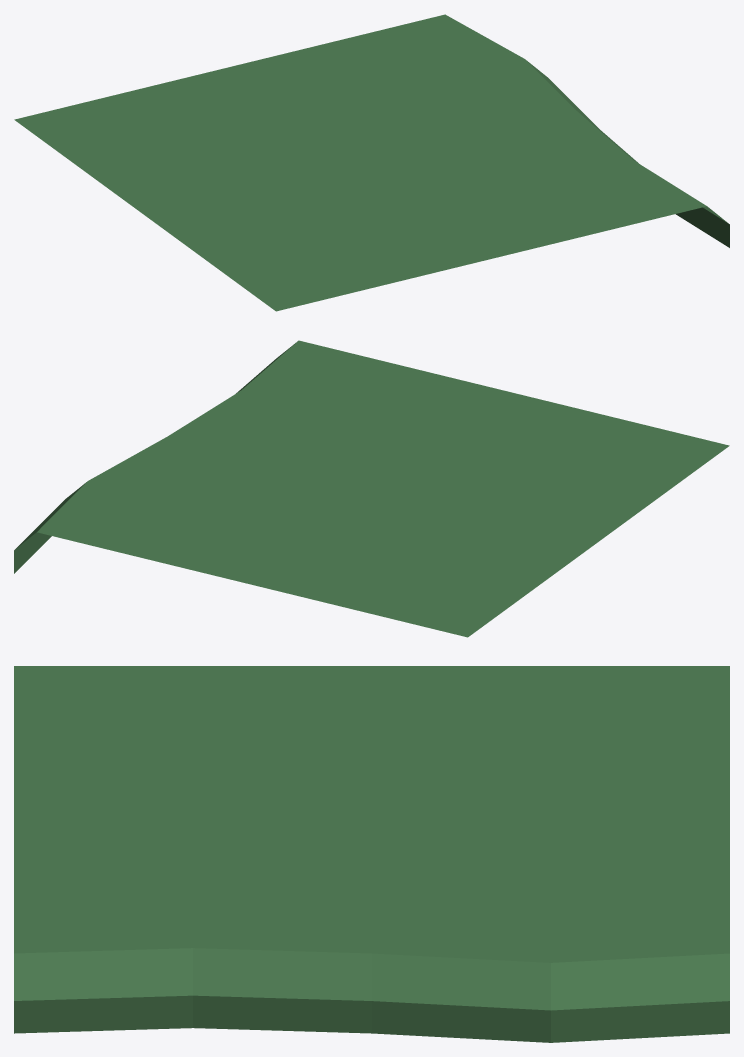
The model's file is Grass_1_Side.fbx.
The picture shows the model from 3 angles, top to bottom: view 1: azimuth 30°, elevation 25°; view 2: azimuth 150°, elevation 25°; view 3: azimuth 270°, elevation 25°; orthographic projection. The views are drawn at different scales.
Visible parts, largest first — view 1: Grass_1_Side; view 2: Grass_1_Side; view 3: Grass_1_Side.
Boxes of the visible parts, bbox=[...] form: Grass_1_Side: bbox=[14, 14, 729, 311]; Grass_1_Side: bbox=[14, 340, 729, 637]; Grass_1_Side: bbox=[14, 666, 729, 1042].
Bounding box in the file's own units: 1.03 × 0.1 × 1.
